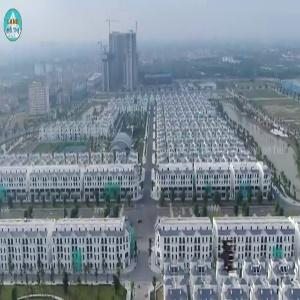drone: (204, 230, 257, 283)
